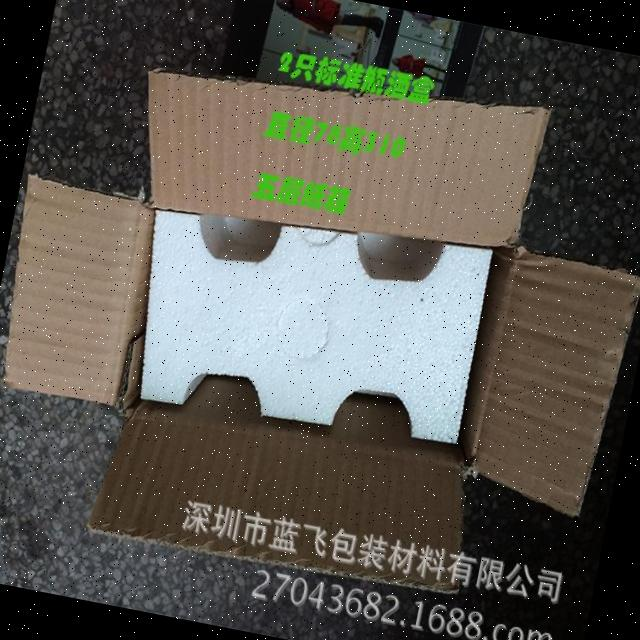styrofoam: (118, 184, 496, 461)
